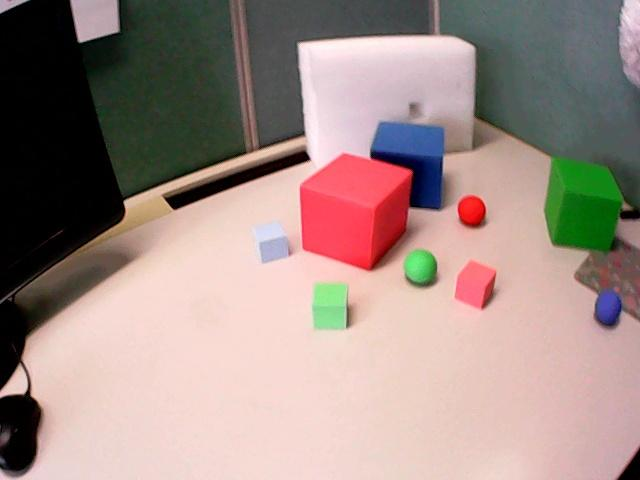blue_block: (371, 122, 444, 208), (253, 222, 289, 263)
red_block: (300, 154, 412, 269), (455, 261, 495, 307)
